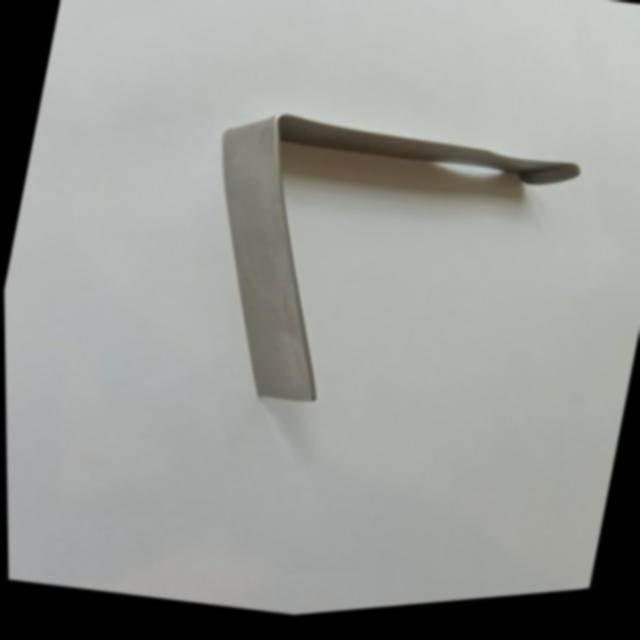AustinRetractor: (161, 81, 608, 475)
